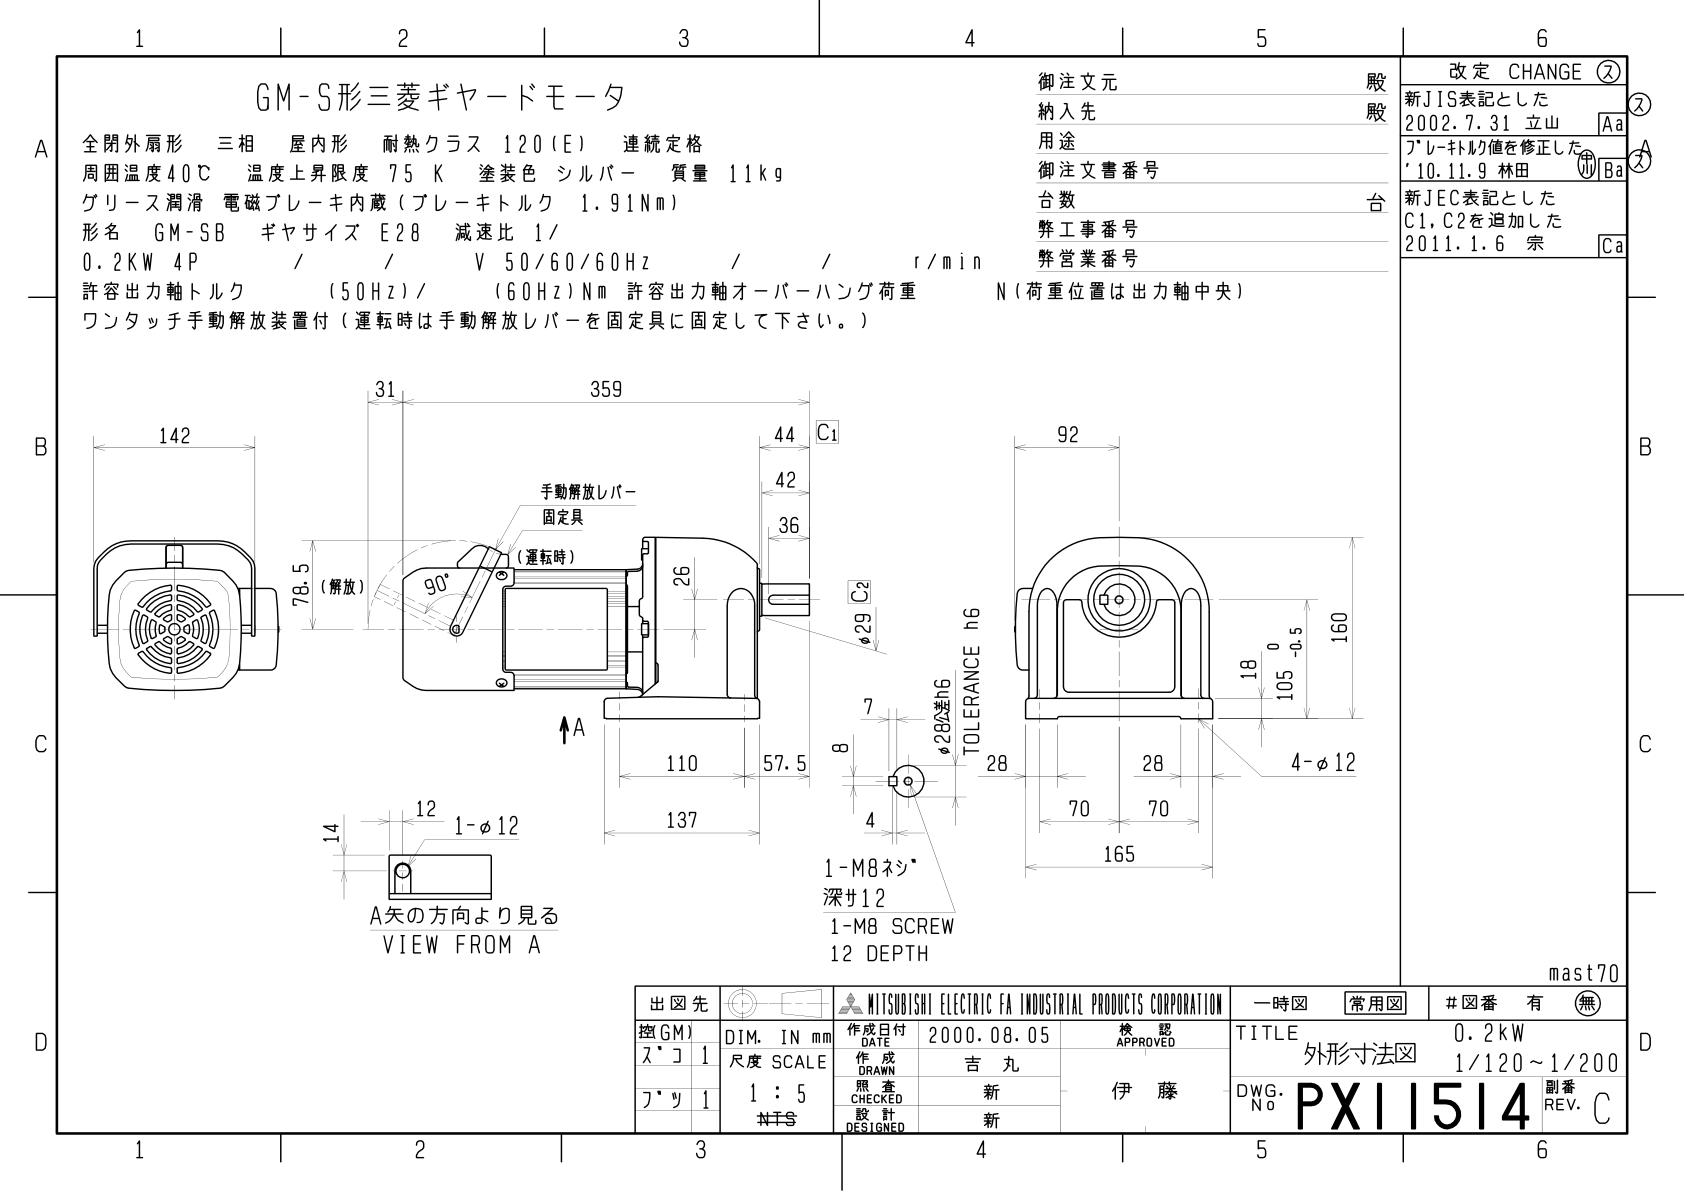GM_S_手動ブレーキ＿三相_脚: (6, 10, 1684, 1190)
